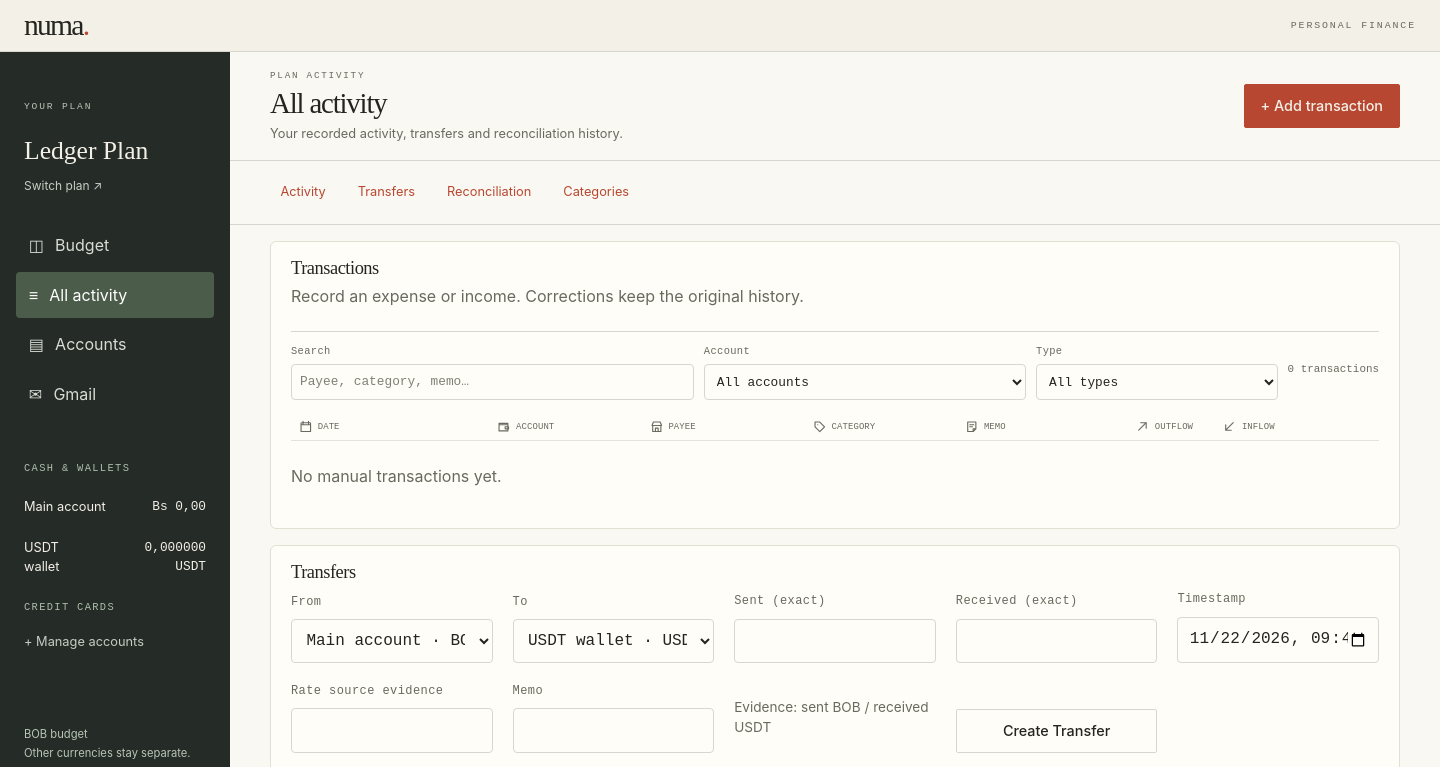
it: minimal authoritative client flows › keeps invalid advanced JSON from submitting financial activity
Click the button "+ Add transaction".
click(1322, 106)  # box [1244, 84, 1400, 128]
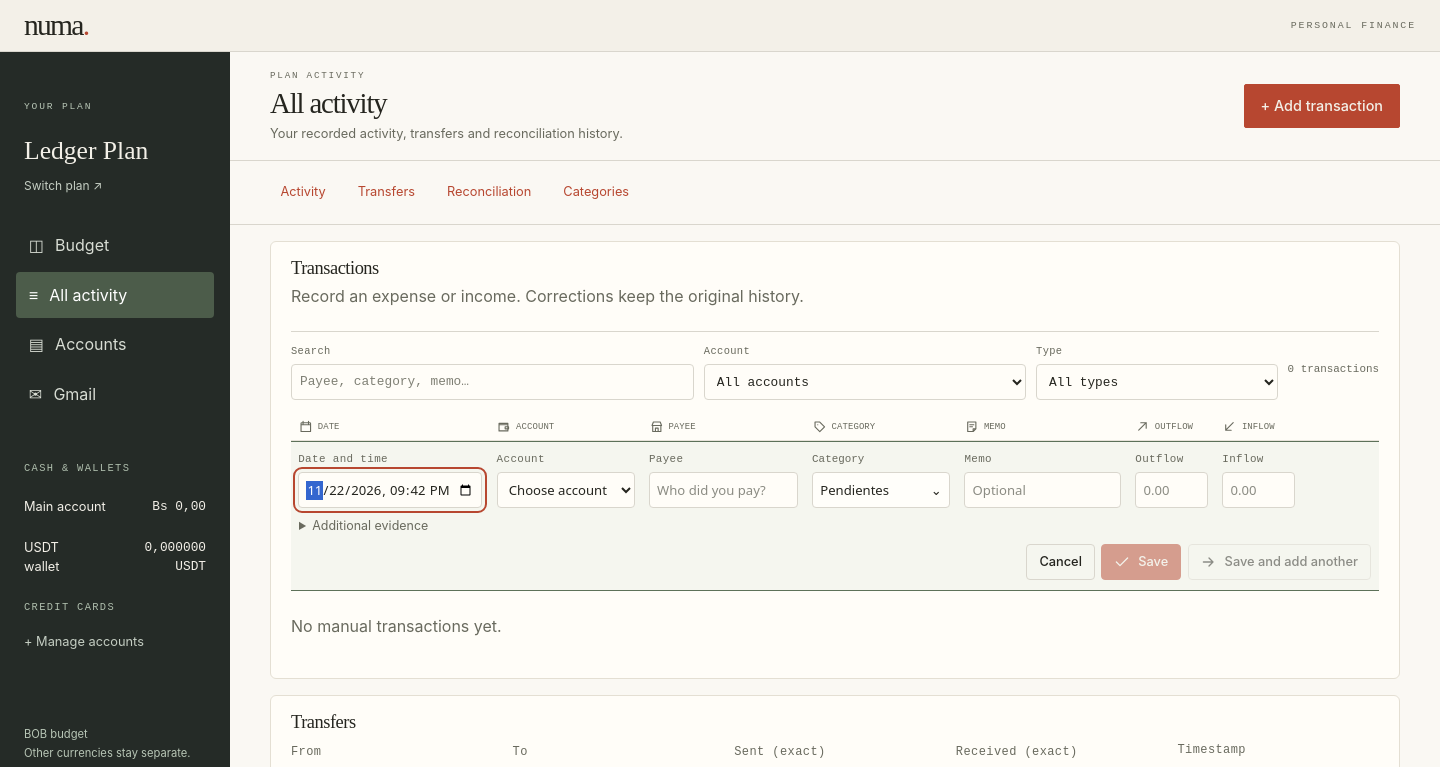
Select "Main account · BOB" in the dropdown named "Transaction account" at (566, 490), box [497, 472, 634, 508]
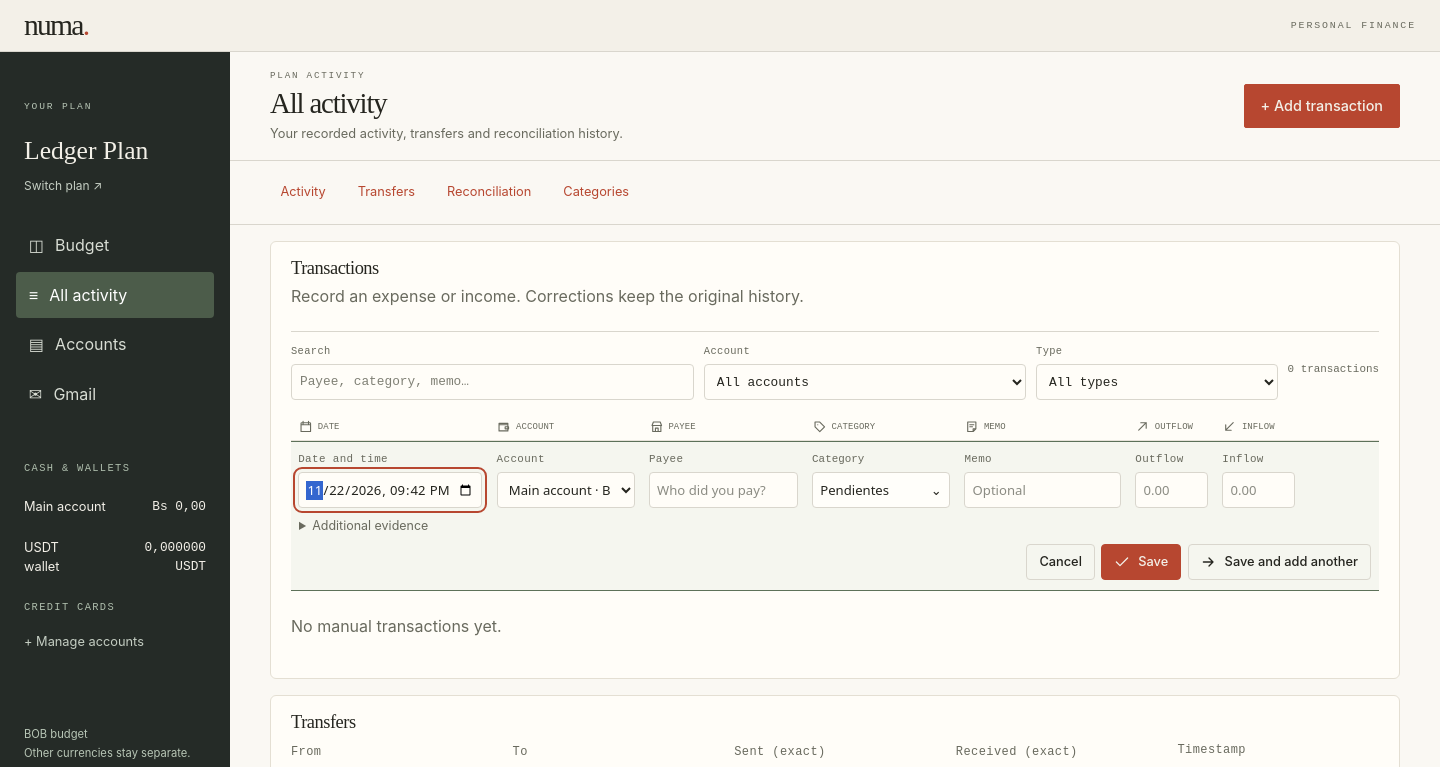
Click the heading "Additional evidence".
click(370, 526)  # box [312, 518, 428, 533]
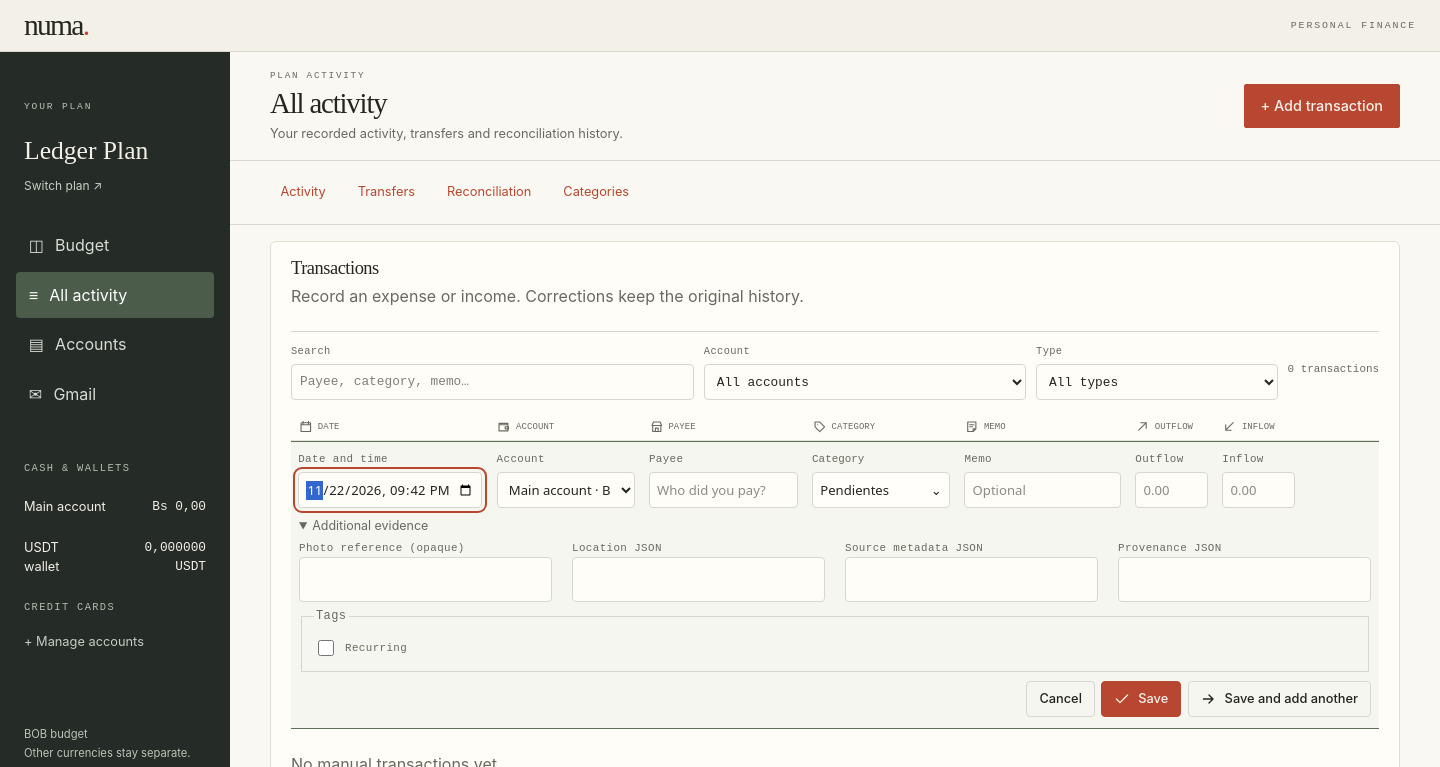
Type "12.00" into the field labelled "Outflow".
click(1172, 490); type("12.00")  # box [1135, 472, 1208, 508]
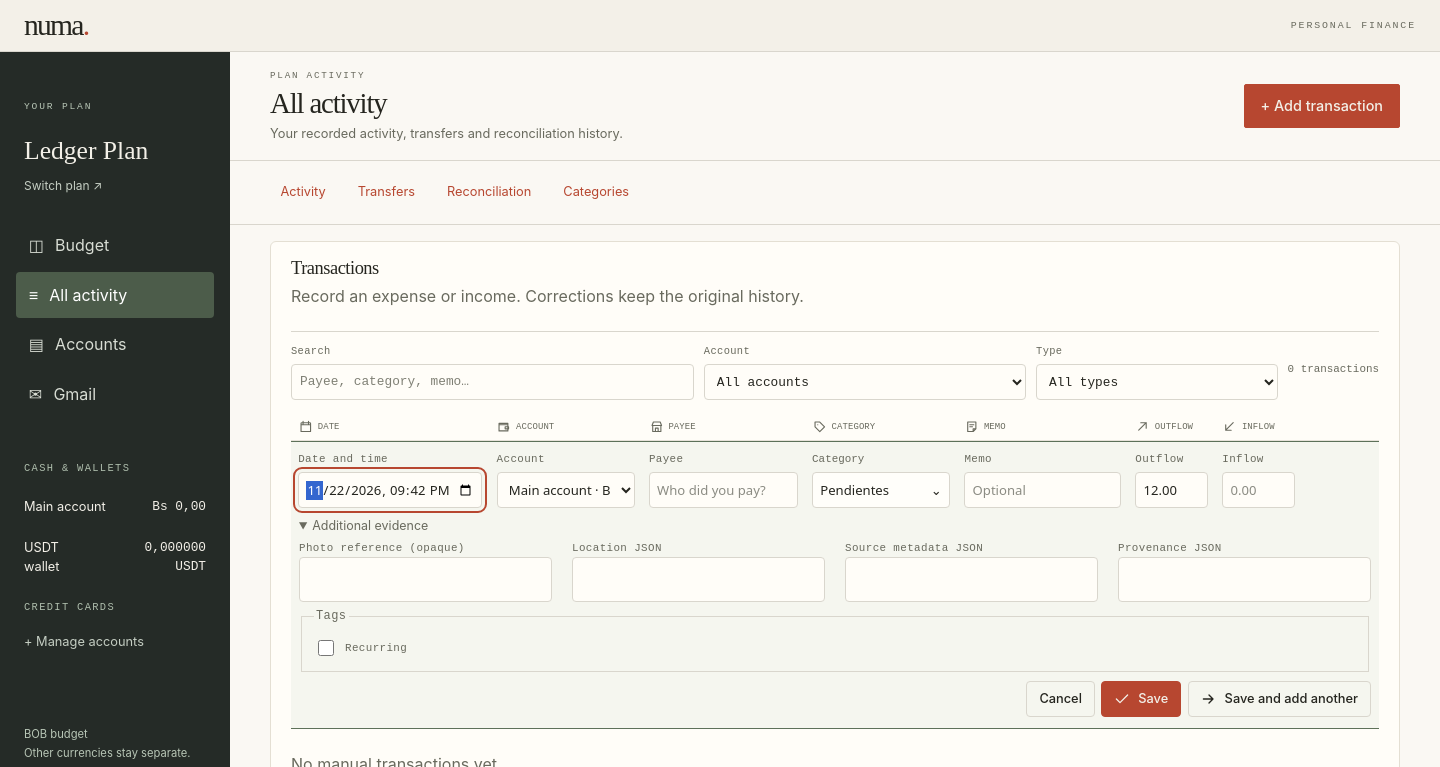
Type "not json" into the field labelled "Provenance JSON".
click(1244, 580); type("not json")  # box [1118, 557, 1371, 602]
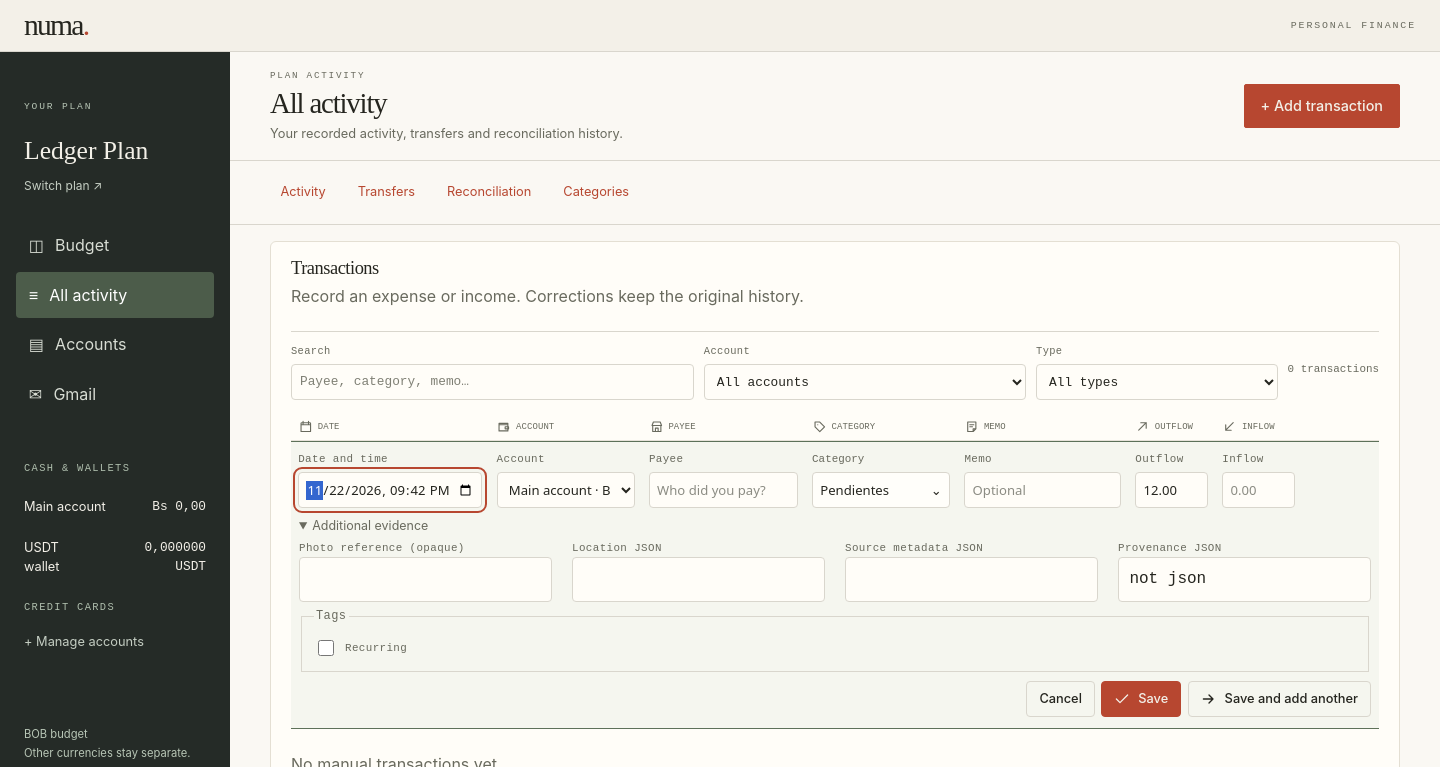
Click the button "Save".
click(1141, 699)  # box [1101, 681, 1181, 717]
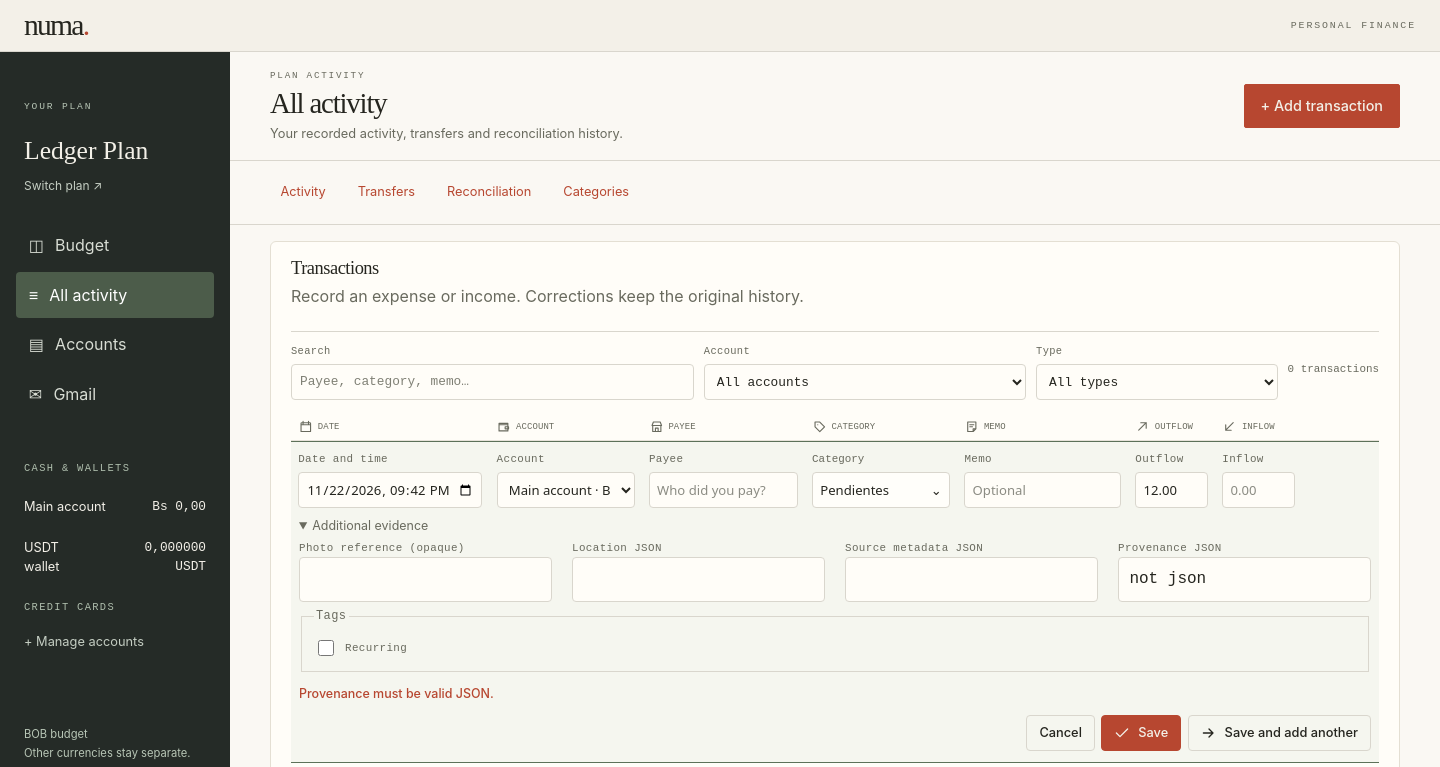
Result: the message "Provenance must be valid JSON." is shown at [299, 686, 494, 701]
